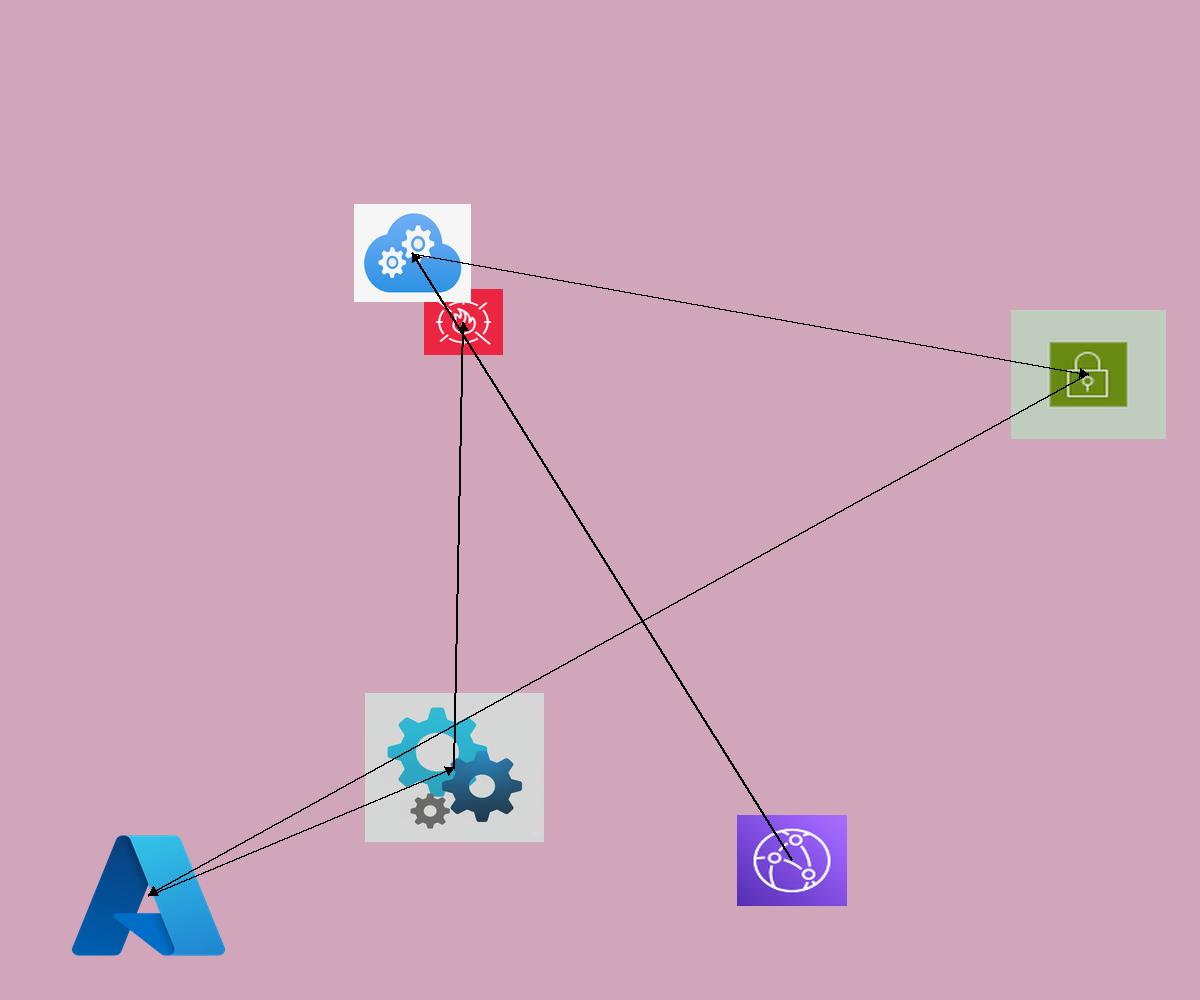AWS-CloudFront: (737, 815, 847, 906)
AWS-Public-subnet: (1011, 310, 1166, 439)
AWS-WAF: (424, 289, 503, 355)
Azure_api: (365, 693, 544, 842)
Azure_cloud_services: (354, 204, 471, 302)
Azure_services: (65, 826, 232, 965)
